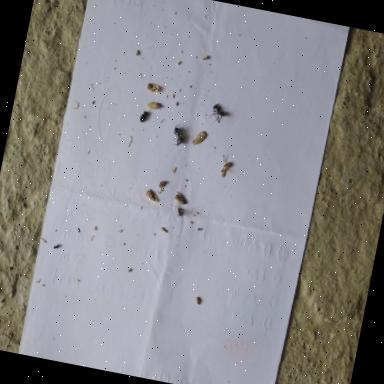pbw: (218, 152, 233, 180), (192, 130, 208, 148), (172, 190, 188, 206), (144, 190, 160, 204), (145, 100, 160, 112), (146, 82, 160, 94)
